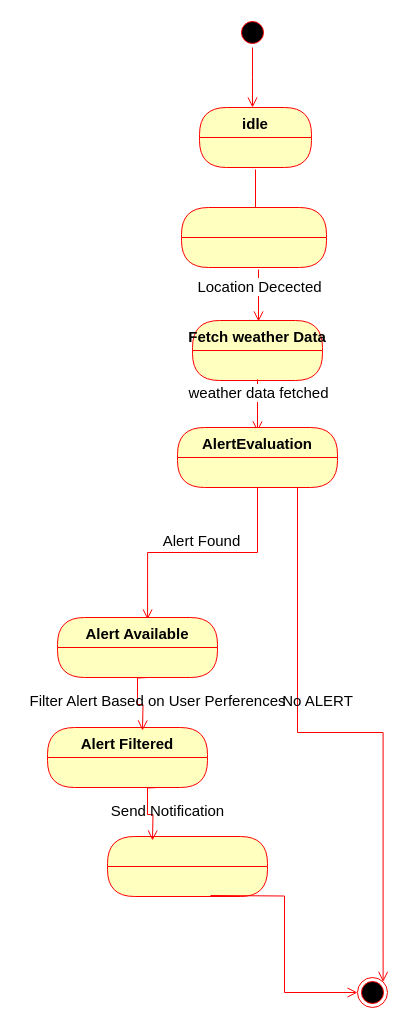
Image size: 411x1025. Some labels were removed from this diagram. Each missing label, with the box of its shape:
Location Dectection: (180, 206, 326, 268)
PushNotificationSent: (106, 836, 268, 896)
